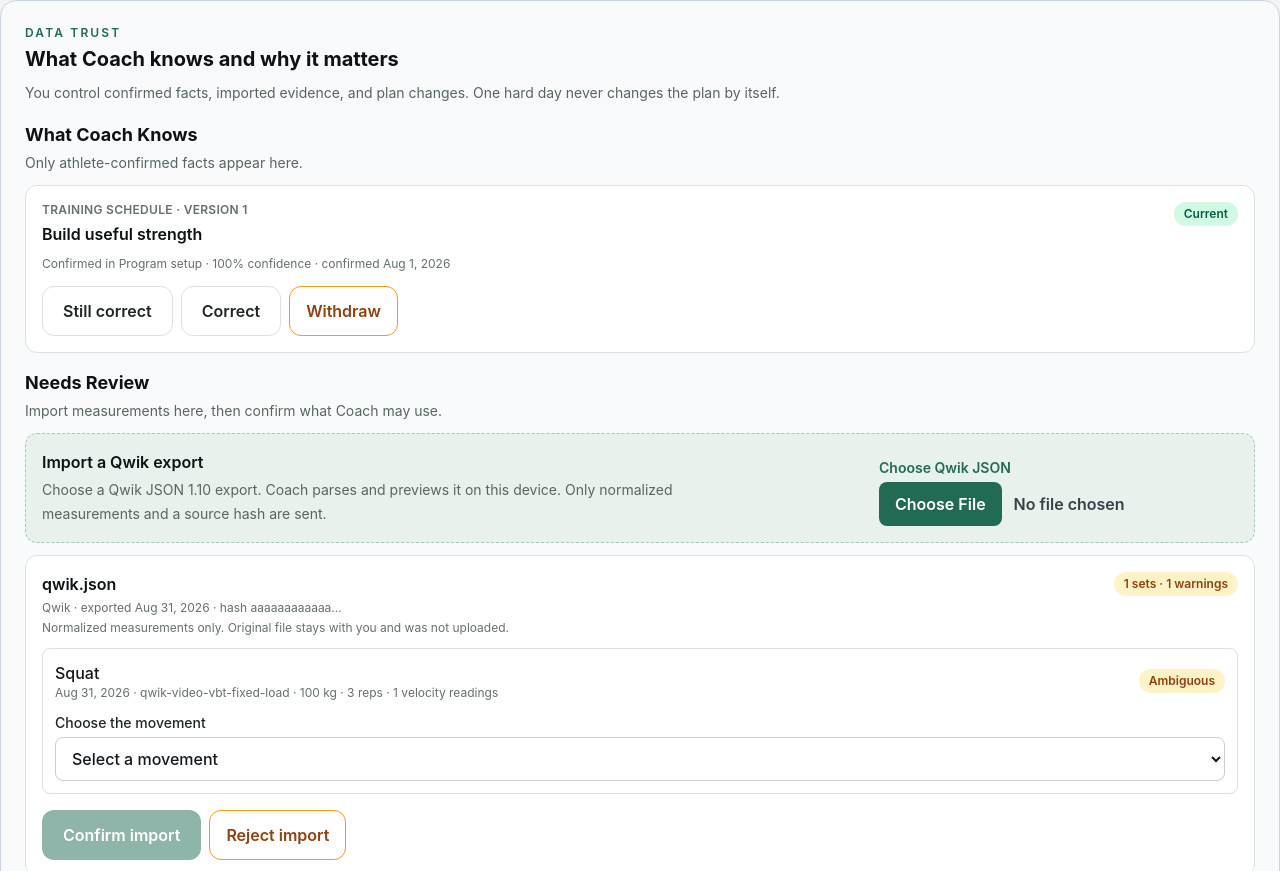
Test case: CoachTrustCenter › saves explicit reviewed per-day corrections through the existing canonical action
Click the button "Correct" at (231, 311), box [181,286,281,336]
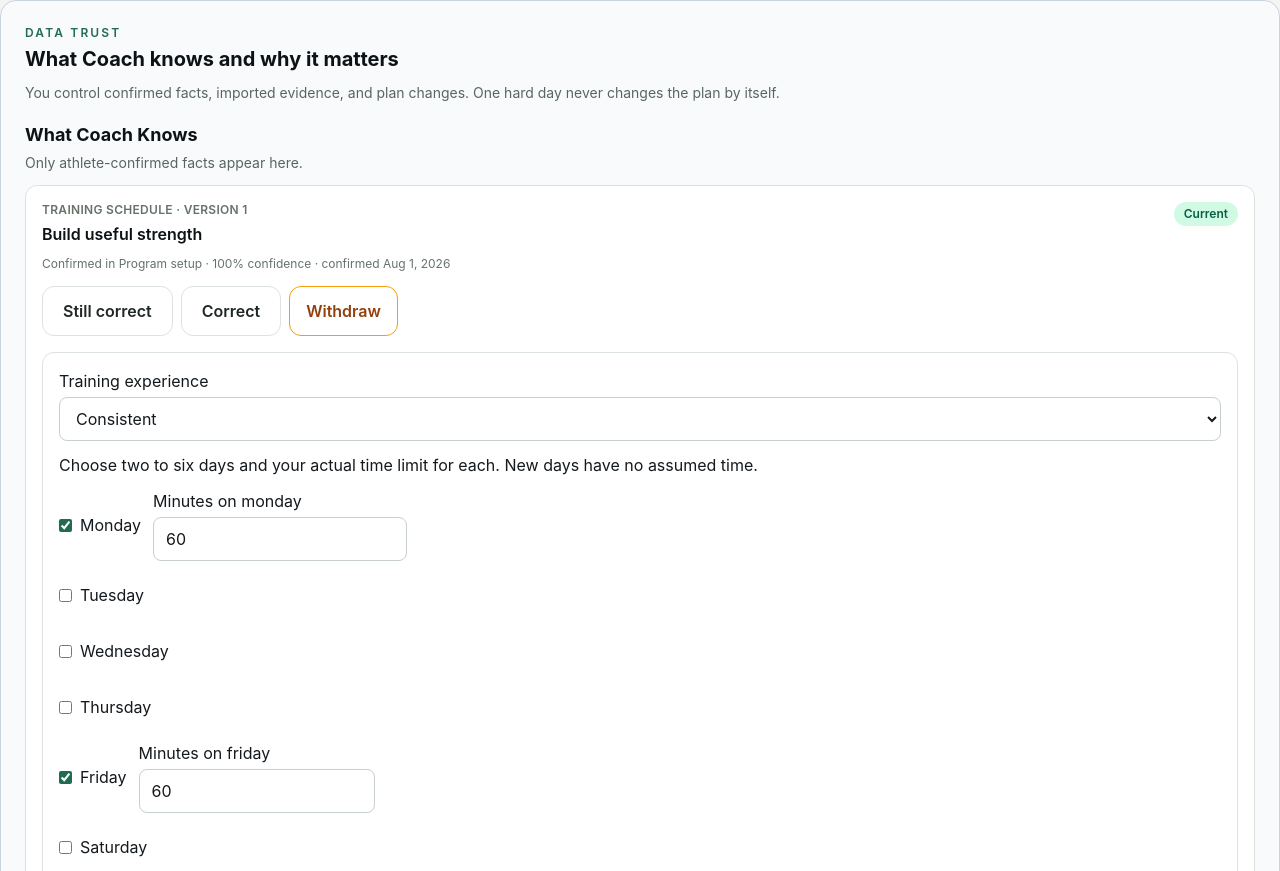
Replace the text in the number field labelled "Minutes on monday" with "75" at (280, 539), box [153,517,407,561]
(page scrolled)
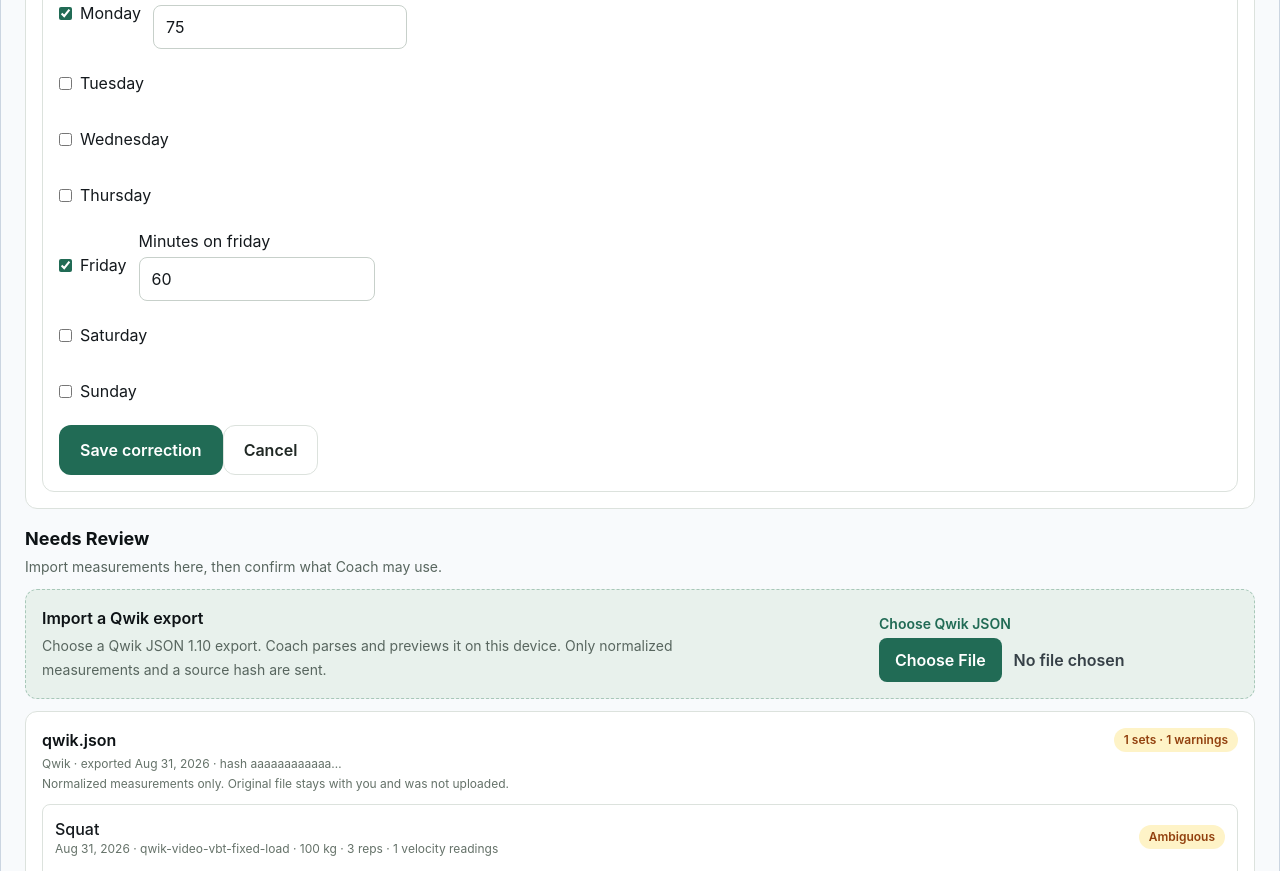
Click the button "Save correction" at (141, 450), box [59,425,223,475]
(page scrolled)
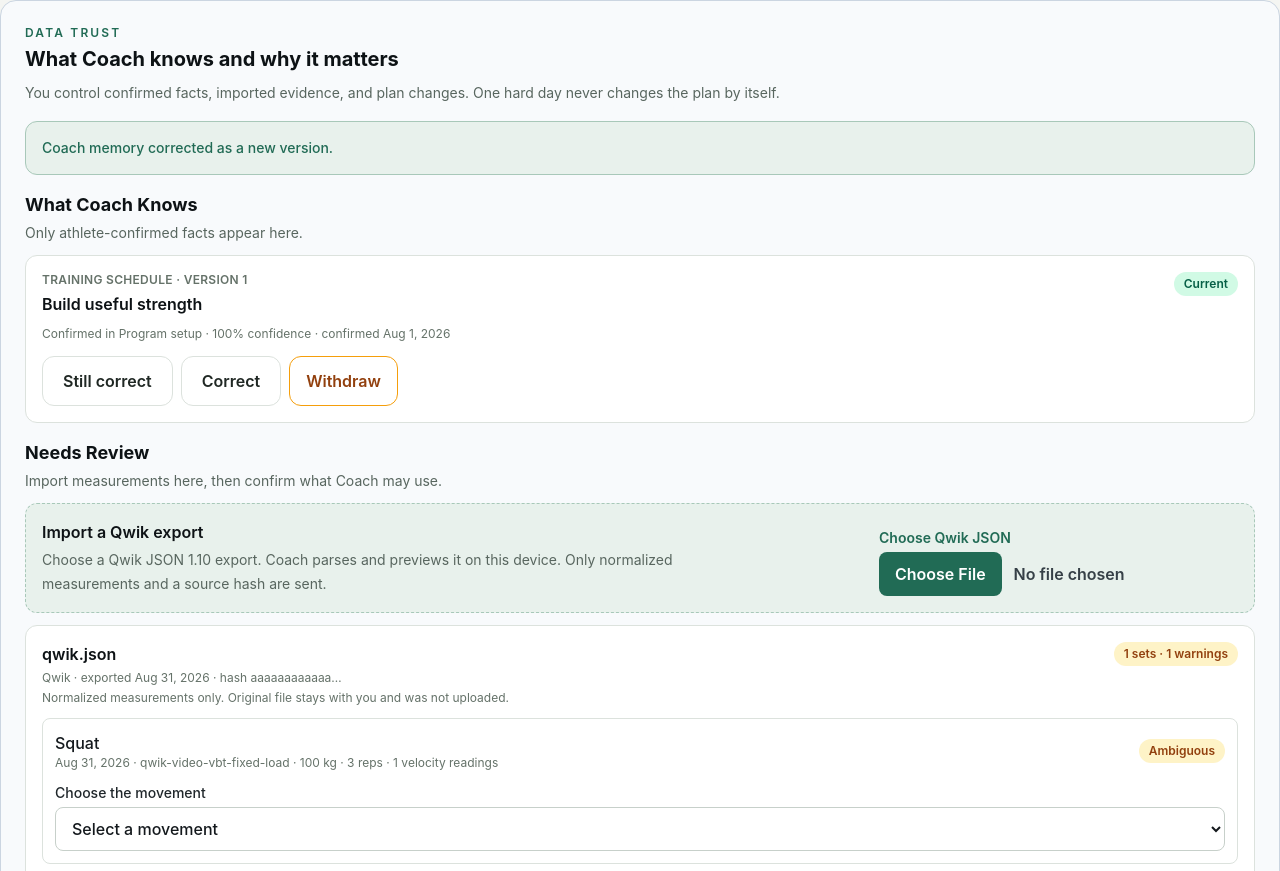
Check: the text "Coach memory corrected as a new version." is shown, box [25,121,1255,175]
